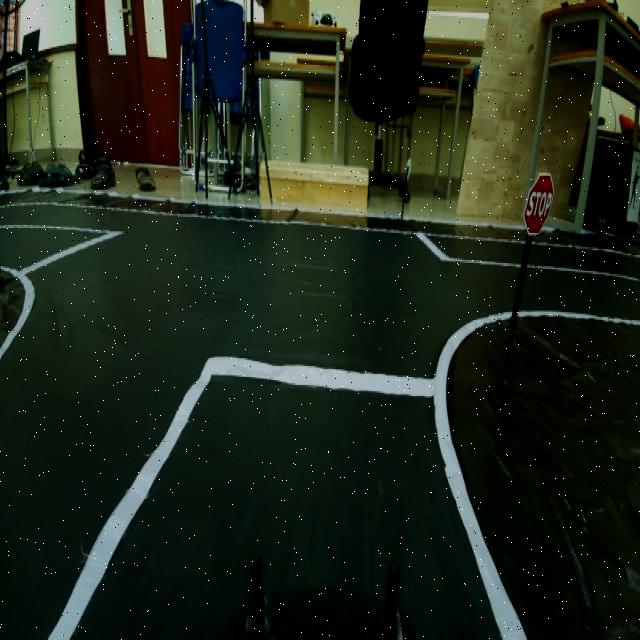stop: (520, 161, 560, 245)
